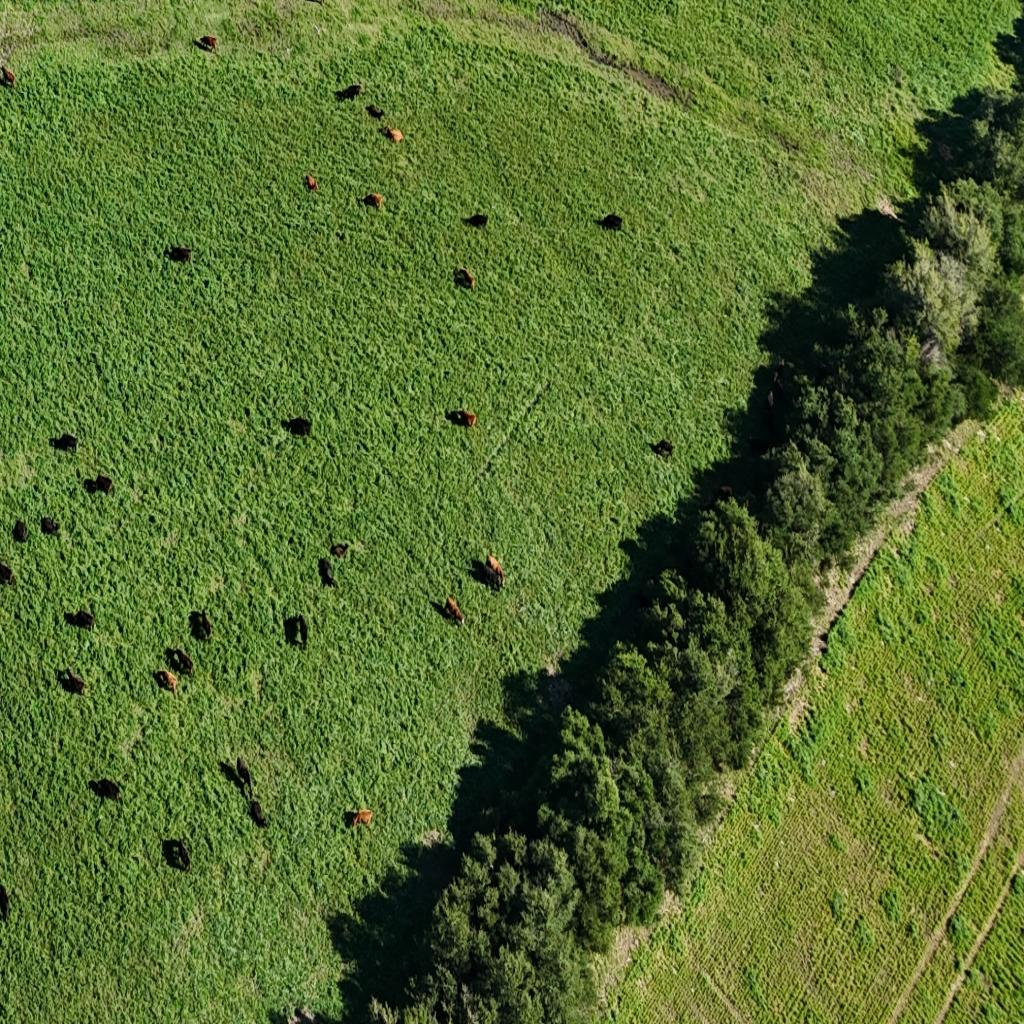cow: (164, 837, 192, 872), (480, 554, 505, 590), (90, 777, 122, 804), (167, 646, 194, 678), (284, 614, 308, 649), (57, 668, 85, 696), (220, 758, 244, 790), (236, 754, 253, 796), (444, 595, 466, 626), (191, 610, 212, 642), (66, 608, 94, 631), (154, 669, 178, 695), (448, 407, 476, 429), (84, 475, 113, 496), (348, 806, 374, 828), (285, 416, 312, 437), (249, 799, 268, 828), (167, 244, 193, 265), (319, 558, 337, 588), (454, 268, 476, 292), (52, 433, 78, 453), (338, 82, 364, 101), (651, 439, 673, 459), (381, 122, 403, 142), (599, 213, 623, 231), (0, 884, 11, 923), (362, 192, 384, 211), (0, 560, 15, 586), (0, 65, 16, 89), (41, 516, 60, 536), (196, 36, 217, 54), (465, 212, 488, 228), (12, 518, 27, 542), (304, 173, 320, 193), (430, 599, 445, 619), (330, 542, 348, 558), (366, 104, 384, 120), (88, 780, 102, 800)
